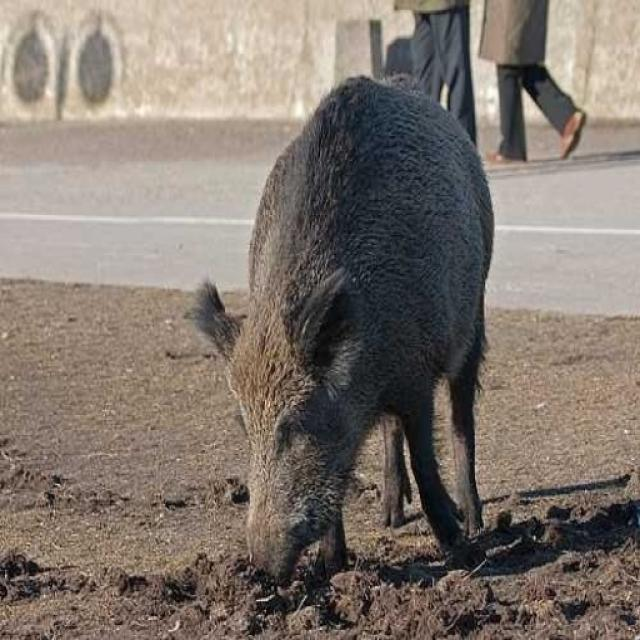pig: (140, 55, 520, 609)
